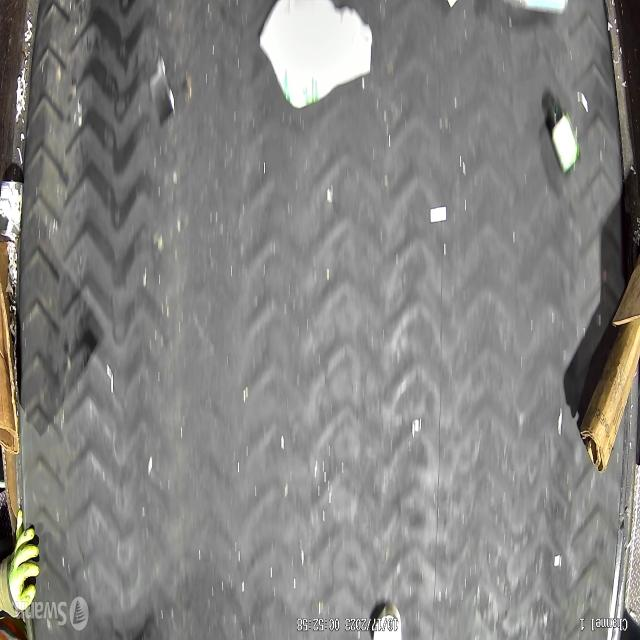can: (0, 181, 23, 237)
milk_jug: (259, 0, 372, 109)
